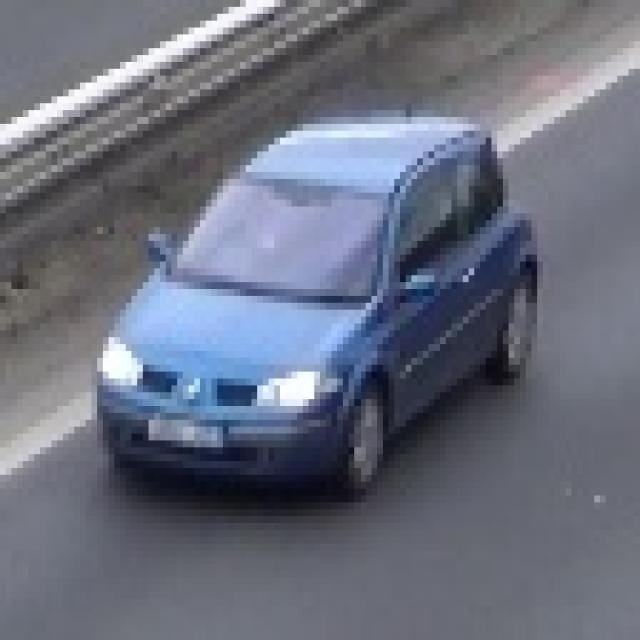blue: (95, 114, 540, 493)
